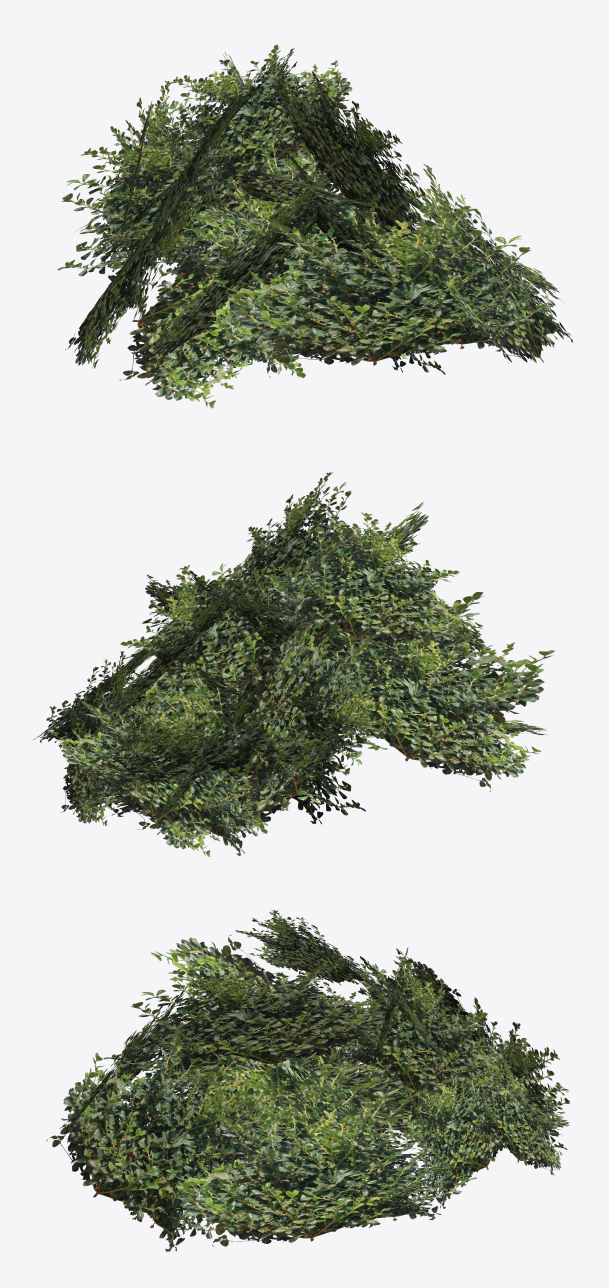
Rendered from trees_and_bush_pack_bush_big2.glb.
3 views of the same model, one above another, from view 1: azimuth 30°, elevation 25°; view 2: azimuth 150°, elevation 25°; view 3: azimuth 270°, elevation 25° (orthographic). The views are drawn at different scales.
Parts seen in each view (by area): view 1: BushBig2; view 2: BushBig2; view 3: BushBig2.
Part boxes in pixels (x1,y1,x2,y2): BushBig2: (57, 44, 573, 408); BushBig2: (33, 472, 554, 856); BushBig2: (46, 910, 569, 1251).
Bounding box in the file's own units: 2.59 × 1.56 × 3.
1 material, 1 textured.
